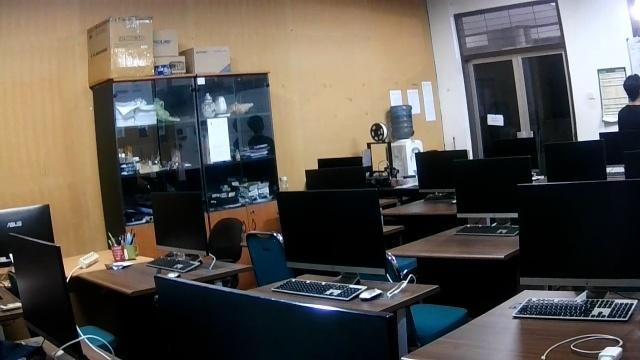AIO PC-Monitor-TV: (516, 180, 639, 290), (275, 189, 388, 278), (149, 190, 208, 262)
Meja: (77, 256, 253, 303), (238, 274, 438, 312), (386, 223, 520, 264)
